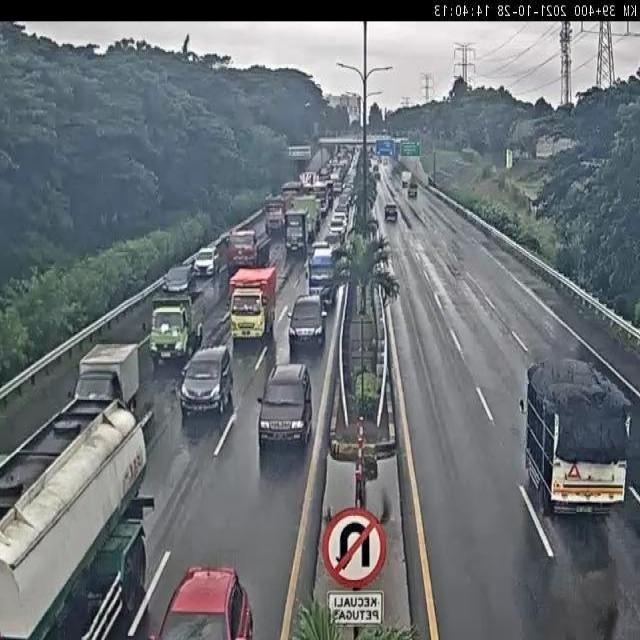Car: (159, 557, 259, 640), (257, 356, 316, 457), (176, 344, 234, 433), (280, 294, 327, 355), (160, 261, 198, 298), (192, 242, 216, 277), (383, 198, 403, 230)
Truck: (0, 382, 143, 640), (525, 359, 631, 518), (74, 343, 142, 417), (150, 291, 202, 367), (228, 265, 278, 342), (307, 249, 336, 309), (288, 193, 320, 247), (227, 228, 262, 272), (264, 196, 288, 236), (401, 171, 411, 189)
